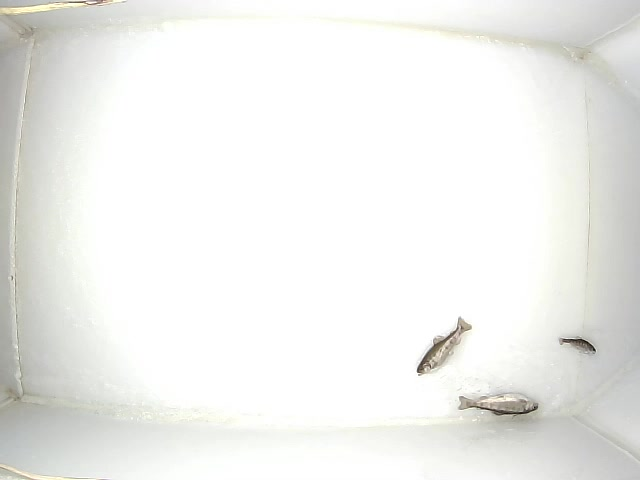fish: (416, 316, 472, 376), (458, 392, 539, 419), (559, 336, 596, 355)
